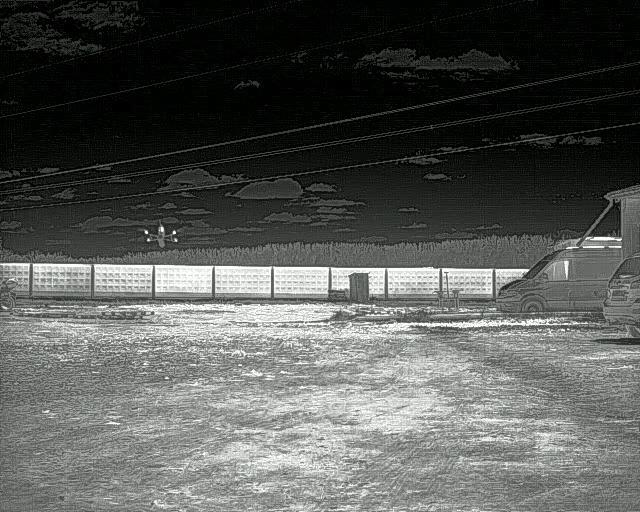drone-thermal: (141, 217, 180, 249)
